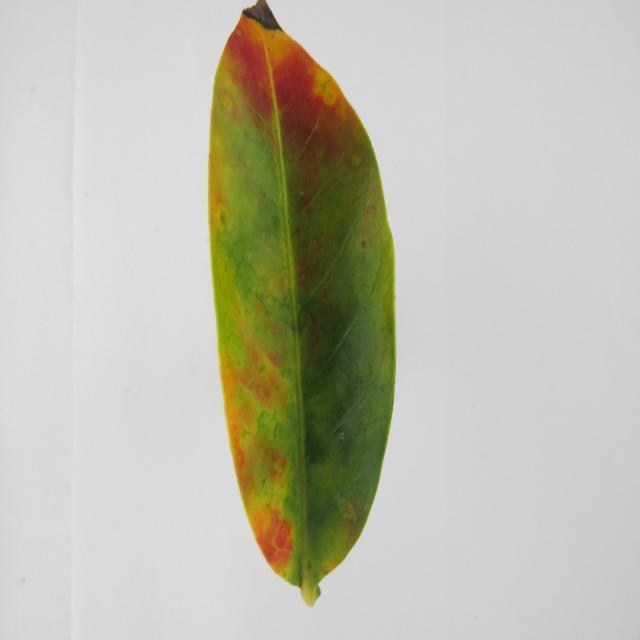DeficienciaNutricional-Fosforo: (209, 0, 395, 607)
